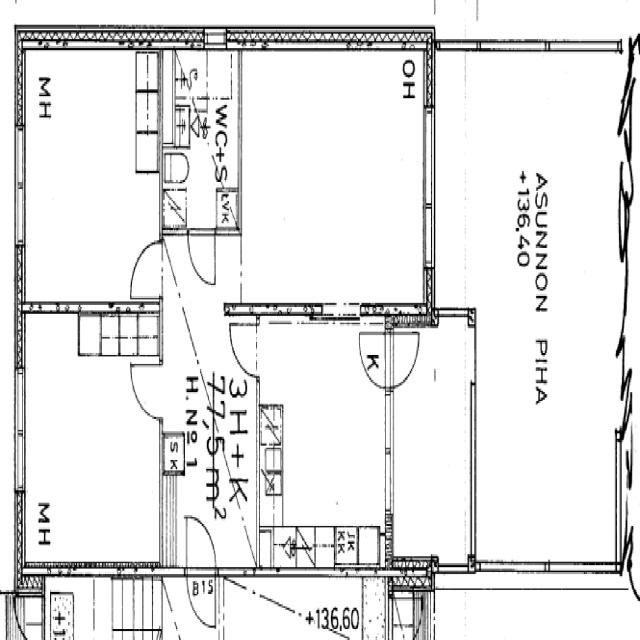door: (127, 235, 163, 303), (184, 512, 218, 582), (128, 358, 163, 420), (388, 326, 422, 389), (228, 314, 260, 380), (186, 226, 218, 288), (358, 319, 387, 385), (186, 573, 217, 629)
window: (11, 366, 31, 495), (13, 125, 29, 258), (382, 392, 398, 524), (419, 106, 438, 212), (420, 200, 436, 272), (204, 24, 227, 49)
zone: (241, 41, 428, 322), (20, 312, 162, 573), (19, 50, 158, 306), (260, 318, 391, 564), (391, 318, 474, 564), (168, 50, 240, 224), (45, 573, 116, 640), (362, 571, 388, 640)
